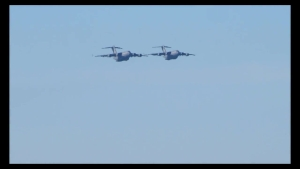flight: (93, 45, 148, 63), (144, 45, 196, 61)
